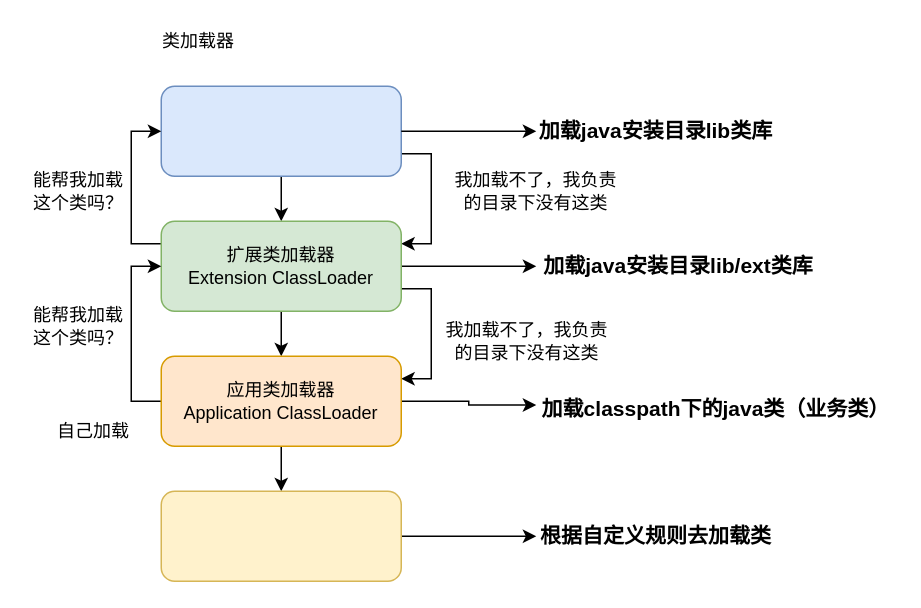
The diagram is 921 pixels wide and 608 high, and some of its shapes have lost their labels. Here are the shapes that lost their labels. From the top down, the centre of each, then its label:
At (x=280, y=130): "启动类加载器 Bootstrap ClassLoader".
At (x=280, y=535): "自定义类加载器 Custom ClassLoader".
